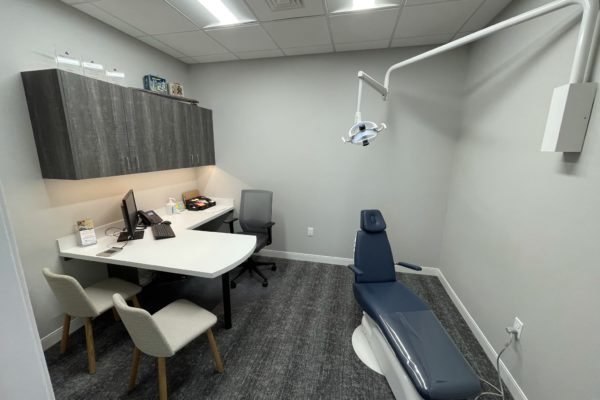cabinet: (27, 64, 223, 172)
chair: (34, 266, 147, 378), (113, 292, 223, 400), (225, 188, 277, 289)
computer: (121, 189, 142, 238)
exam_table: (345, 209, 481, 400)
handle: (126, 155, 131, 172), (135, 156, 141, 170), (190, 152, 194, 163), (197, 153, 200, 164)
keyboard: (151, 223, 176, 240)
mouse: (162, 220, 172, 225)
surgical_light: (341, 116, 389, 151)
table: (57, 198, 252, 341)
telephone: (139, 209, 163, 226)
